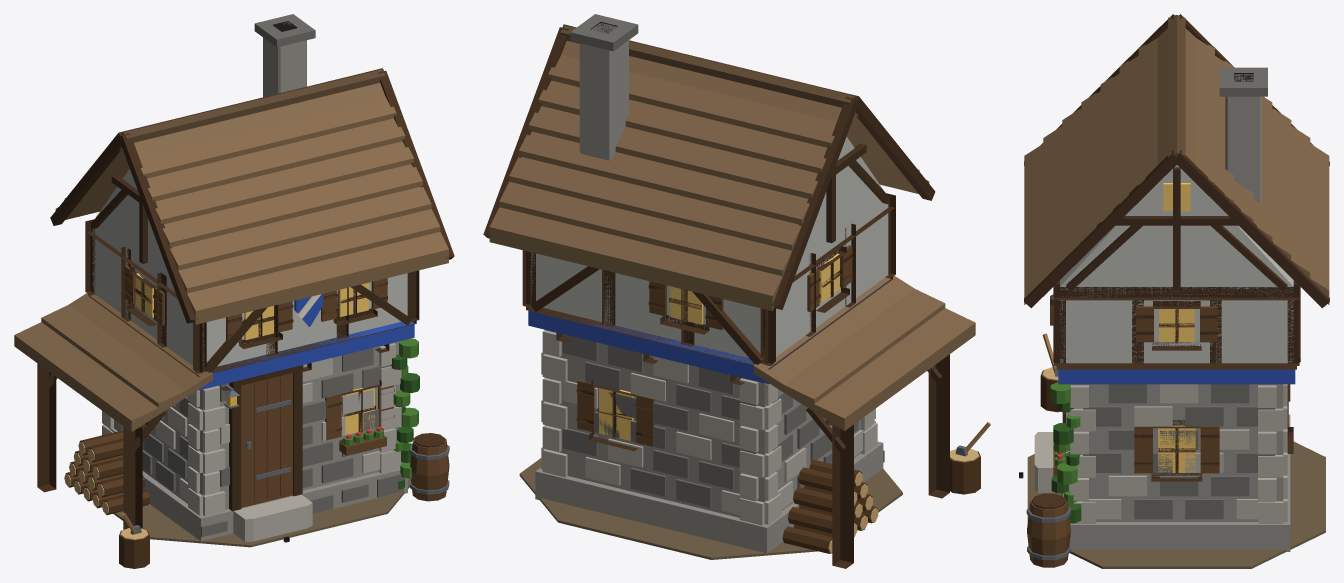
File: house_2.obj
The picture shows the model from 3 angles, left to right: view 1: azimuth 30°, elevation 25°; view 2: azimuth 150°, elevation 25°; view 3: azimuth 270°, elevation 25°; orthographic projection. The views are drawn at different scales.
Visible parts, largest first — view 1: Roof, Shed.Roof, Wall.Stone, Upper, Wall.Quoin, Door, Gable.Barge, Walls, Shed.Post, Roof.Ridge, Band, Ground (+20 smaller); view 2: Roof, Wall.Stone, Shed.Roof, Upper, Walls, Wall.Quoin, Plinth, Gable.Barge, Shed.Post, Ground, Chimney, Band (+15 smaller); view 3: Roof, Wall.Stone, Gable, Upper, Walls, Ground, Plinth, Wall.Quoin, Gable.Barge, Band, Chimney, Timber.Plate (+20 smaller).
Boxes of the visible parts, box(x1,y1,x2,y2) form: Roof: box(55, 83, 448, 324); Shed.Roof: box(14, 293, 212, 431); Wall.Stone: box(109, 347, 393, 501); Upper: box(92, 227, 407, 366); Wall.Quoin: box(102, 343, 402, 516); Door: box(241, 373, 292, 507); Gable.Barge: box(50, 68, 454, 323); Walls: box(114, 341, 399, 509); Shed.Post: box(37, 363, 142, 529); Roof.Ridge: box(121, 69, 385, 142); Band: box(94, 299, 414, 390); Ground: box(113, 478, 410, 547); Roof: box(489, 40, 929, 311); Wall.Stone: box(562, 334, 871, 514); Shed.Roof: box(753, 276, 975, 430); Upper: box(530, 202, 888, 361); Walls: box(545, 330, 860, 517); Wall.Quoin: box(541, 330, 877, 525); Plinth: box(535, 441, 883, 555); Gable.Barge: box(483, 24, 935, 309); Shed.Post: box(832, 354, 949, 568); Ground: box(519, 458, 902, 559); Chimney: box(579, 40, 628, 160); Band: box(528, 280, 889, 384); Roof: box(1024, 28, 1329, 304); Wall.Stone: box(1069, 384, 1274, 519); Gable: box(1060, 165, 1293, 286); Upper: box(1060, 287, 1293, 363); Walls: box(1070, 384, 1283, 521); Ground: box(1027, 441, 1325, 568); Plinth: box(1063, 414, 1290, 551); Wall.Quoin: box(1066, 384, 1287, 523); Gable.Barge: box(1024, 14, 1329, 308); Band: box(1058, 369, 1295, 384); Chimney: box(1225, 96, 1261, 203); Timber.Plate: box(1054, 280, 1299, 300).
Size of the model in its own units: 4.82 by 5.87 by 3.64.
